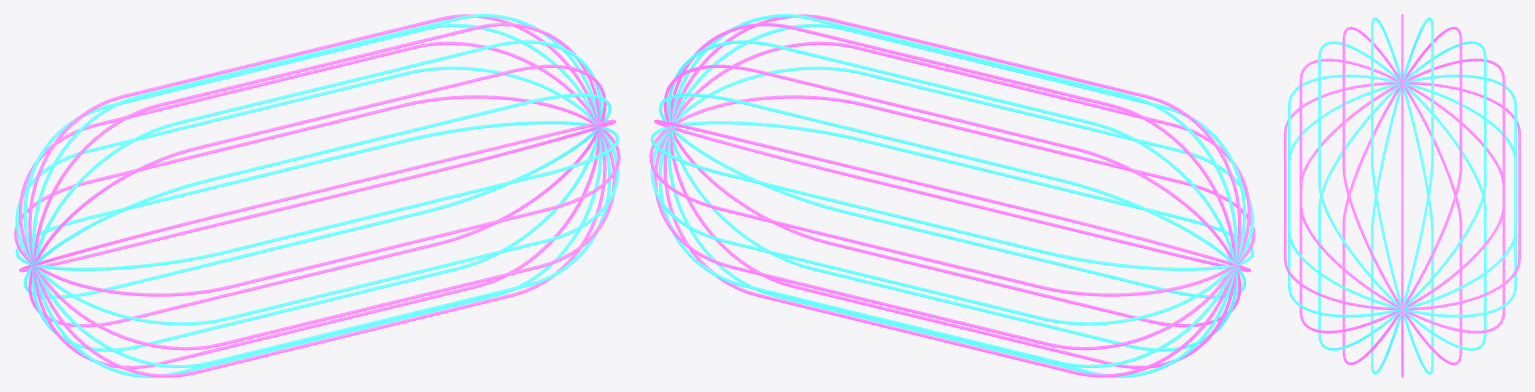
Rendered from xenon-60.glb.
3 renders of one model, left to right at view 1: azimuth 30°, elevation 25°; view 2: azimuth 150°, elevation 25°; view 3: azimuth 270°, elevation 25°, orthographic. The views are drawn at different scales.
Visible parts, largest first — view 1: Meridian 11, Meridian 01, Meridian 09, Meridian 02, Meridian 08, Meridian 12, Meridian 10, Meridian 07, Meridian 03, Meridian 04, Meridian 06, Meridian 05; view 2: Meridian 03, Meridian 01, Meridian 05, Meridian 12, Meridian 06, Meridian 02, Meridian 04, Meridian 07, Meridian 11, Meridian 10, Meridian 08, Meridian 09; view 3: Meridian 09, Meridian 03, Meridian 05, Meridian 11, Meridian 07, Meridian 10, Meridian 04, Meridian 12, Meridian 02, Meridian 08, Meridian 06, Meridian 01.
Part boxes in pixels (bbox=[...]): Meridian 11: bbox=[28, 14, 606, 377]; Meridian 01: bbox=[33, 23, 599, 368]; Meridian 09: bbox=[19, 41, 615, 350]; Meridian 02: bbox=[32, 40, 602, 351]; Meridian 08: bbox=[15, 66, 619, 325]; Meridian 12: bbox=[32, 14, 602, 377]; Meridian 10: bbox=[23, 24, 611, 367]; Meridian 07: bbox=[14, 95, 620, 296]; Meridian 03: bbox=[28, 64, 606, 327]; Meridian 04: bbox=[23, 93, 611, 298]; Meridian 06: bbox=[15, 121, 619, 270]; Meridian 05: bbox=[19, 119, 615, 272]; Meridian 03: bbox=[663, 14, 1241, 377]; Meridian 01: bbox=[670, 23, 1236, 368]; Meridian 05: bbox=[654, 41, 1250, 350]; Meridian 12: bbox=[667, 40, 1237, 351]; Meridian 06: bbox=[650, 66, 1254, 325]; Meridian 02: bbox=[667, 14, 1237, 377]; Meridian 04: bbox=[658, 24, 1246, 367]; Meridian 07: bbox=[649, 95, 1255, 296]; Meridian 11: bbox=[663, 64, 1241, 327]; Meridian 10: bbox=[658, 93, 1246, 298]; Meridian 08: bbox=[650, 121, 1254, 270]; Meridian 09: bbox=[654, 119, 1250, 272]; Meridian 09: bbox=[1299, 58, 1505, 333]; Meridian 03: bbox=[1342, 26, 1462, 365]; Meridian 05: bbox=[1299, 58, 1505, 333]; Meridian 11: bbox=[1342, 26, 1462, 365]; Meridian 07: bbox=[1284, 82, 1520, 310]; Meridian 10: bbox=[1318, 41, 1486, 350]; Meridian 04: bbox=[1318, 41, 1486, 350]; Meridian 12: bbox=[1371, 17, 1433, 374]; Meridian 02: bbox=[1371, 17, 1433, 374]; Meridian 08: bbox=[1288, 74, 1516, 317]; Meridian 06: bbox=[1288, 74, 1516, 317]; Meridian 01: bbox=[1401, 14, 1403, 377].
Bounding box in the file's own units: 2.57 × 1.13 × 1.13.
